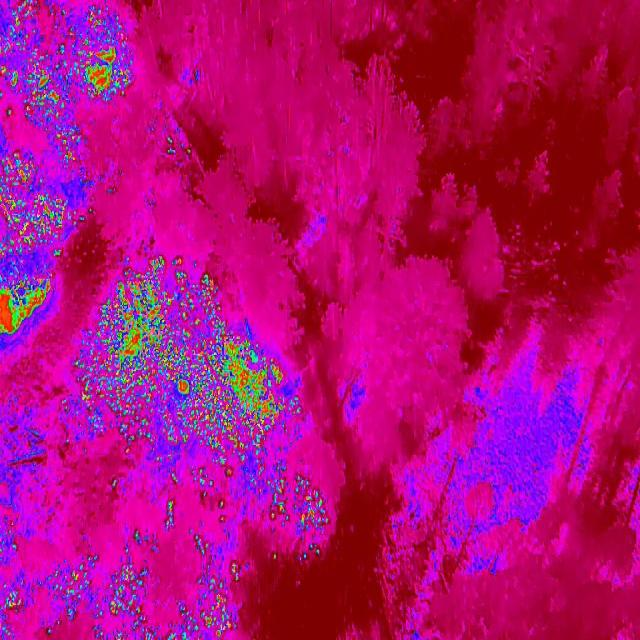fire: (76, 255, 302, 460), (0, 0, 135, 121), (255, 461, 332, 562), (182, 529, 250, 640), (0, 155, 68, 261), (38, 552, 104, 616), (0, 269, 56, 343), (102, 560, 153, 640), (195, 461, 242, 528), (50, 122, 89, 169), (0, 572, 26, 636), (122, 525, 166, 557), (161, 131, 196, 161), (0, 523, 24, 561), (159, 496, 177, 530), (110, 474, 120, 494)
